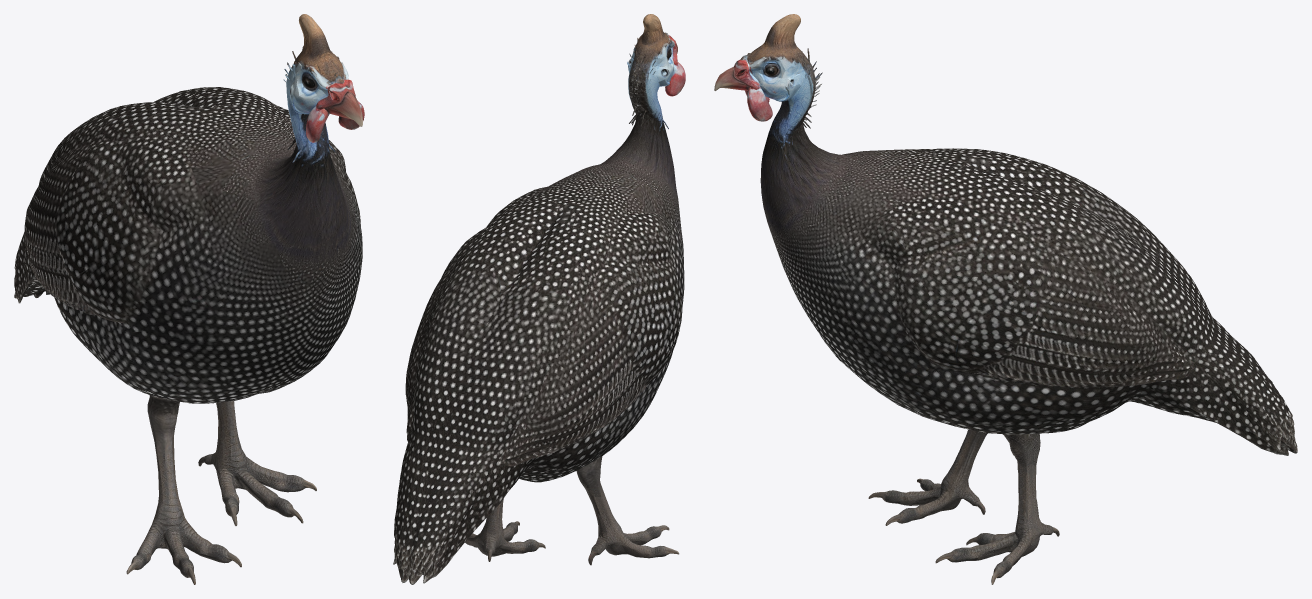
File: helmeted-guineafowl.glb
3 renders of one model, left to right at view 1: azimuth 30°, elevation 25°; view 2: azimuth 150°, elevation 25°; view 3: azimuth 270°, elevation 25°, orthographic. The views are drawn at different scales.
Bounding box in the file's own units: 0.8273 × 1.86 × 1.9.
1 material, 1 textured.
